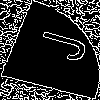J: (25, 25, 91, 64)
